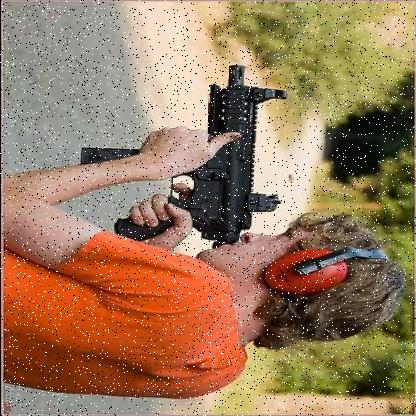rifle: (76, 61, 305, 250)
